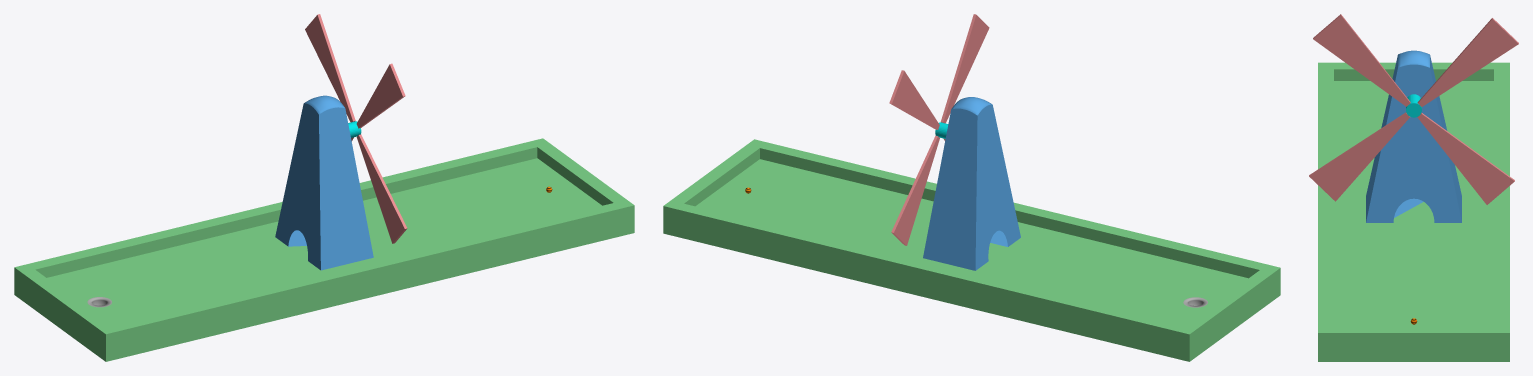
Rendered from Test Course.fbx.
3 renders of one model, left to right at view 1: azimuth 30°, elevation 25°; view 2: azimuth 150°, elevation 25°; view 3: azimuth 270°, elevation 25°, orthographic. The views are drawn at different scales.
Parts seen in each view (by area): view 1: Course, Windmill, Windmill blades; view 2: Course, Windmill, Windmill blades; view 3: Course, Windmill blades, Windmill, Windmill blades base.
Boxes of the visible parts, x1=… form: Course: x1=14, y1=138, x2=634, y2=361; Windmill: x1=275, y1=95, x2=373, y2=270; Windmill blades: x1=305, y1=14, x2=407, y2=243; Course: x1=663, y1=139, x2=1280, y2=361; Windmill: x1=923, y1=97, x2=1020, y2=270; Windmill blades: x1=889, y1=14, x2=989, y2=245; Course: x1=1318, y1=62, x2=1509, y2=361; Windmill blades: x1=1309, y1=14, x2=1518, y2=204; Windmill: x1=1366, y1=50, x2=1461, y2=222; Windmill blades base: x1=1406, y1=94, x2=1421, y2=117.
Bounding box in the file's own units: 656 × 2000 × 788.
